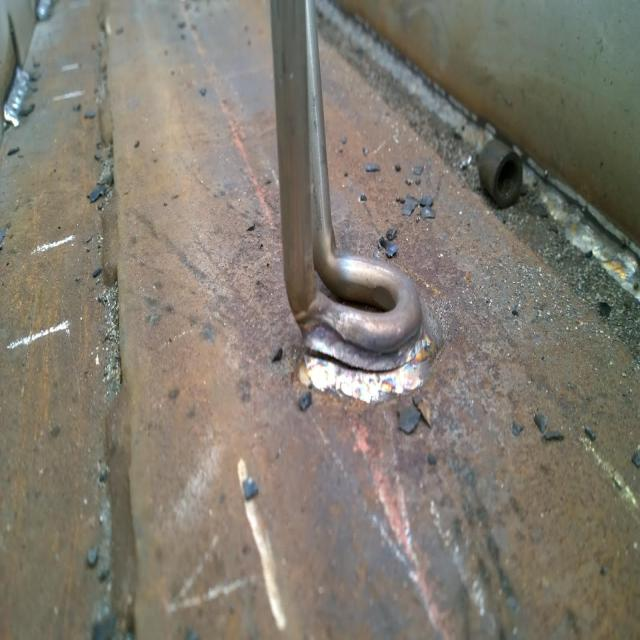Dry Waste: (309, 200, 451, 508), (70, 71, 142, 640)
